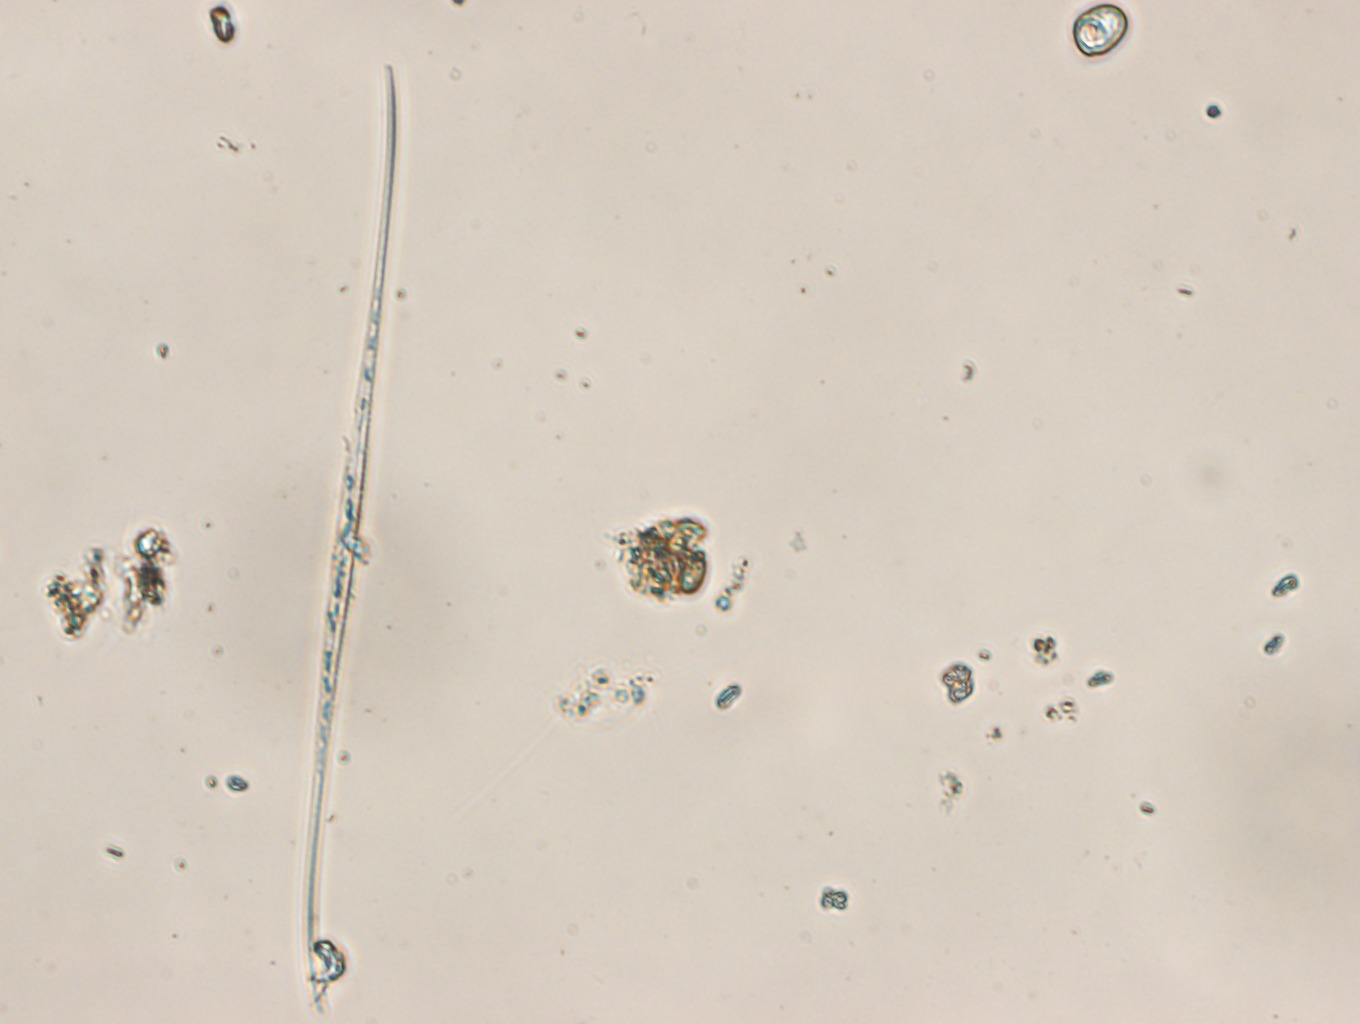pleurosigma pelagicum: (304, 58, 398, 1012)
